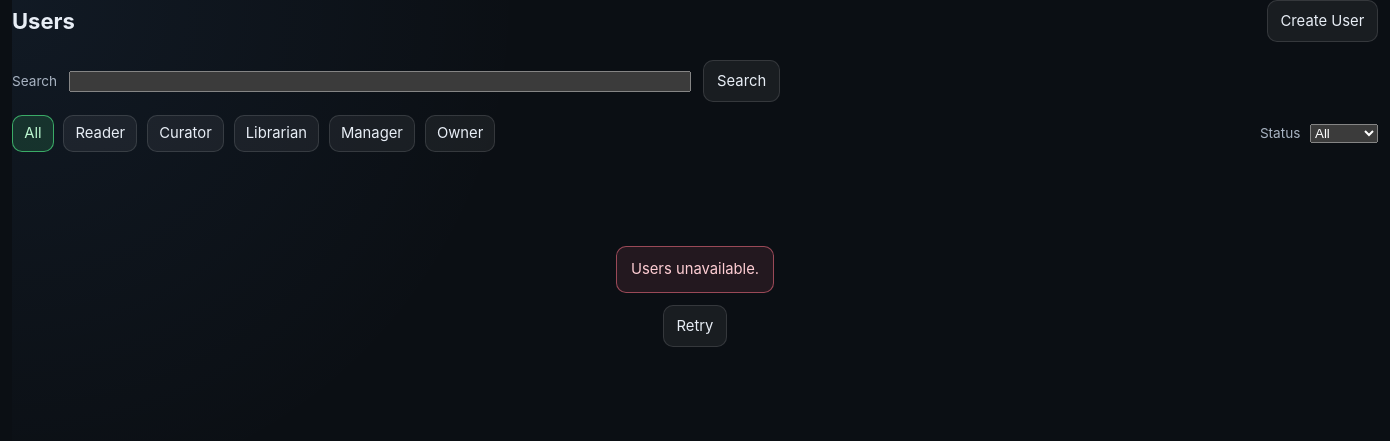
Test: UsersListOrchestrator › retries a failed initial request and renders the recovered authoritative page
Expected: the message "Users unavailable." is shown, x1=616 y1=246 x2=774 y2=293
Click the button "Retry" at (695, 326), box x1=663 y1=305 x2=727 y2=347
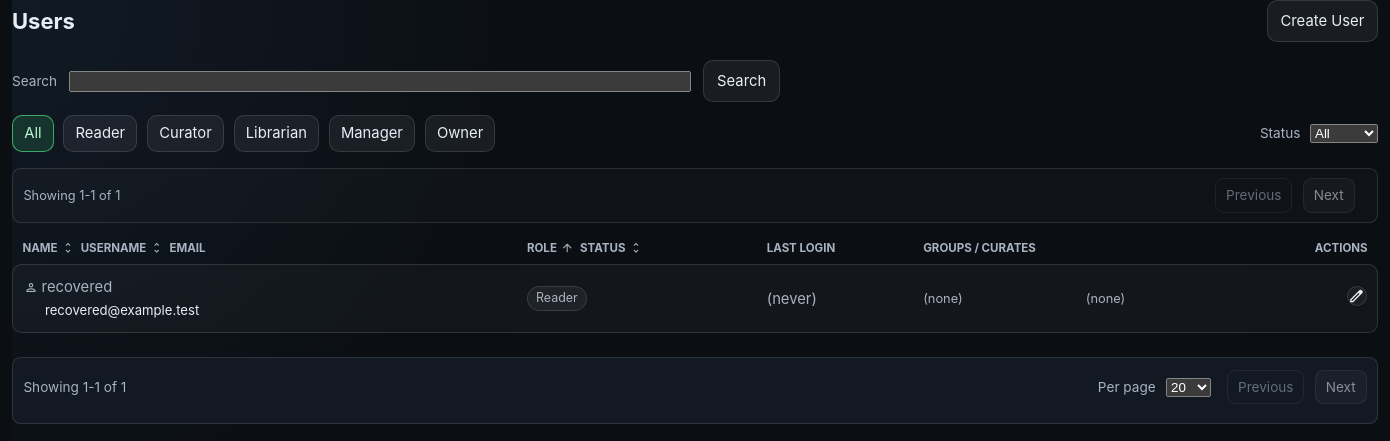
Result: the link named "Edit recovered" is shown at x1=1347 y1=286 x2=1367 y2=306
